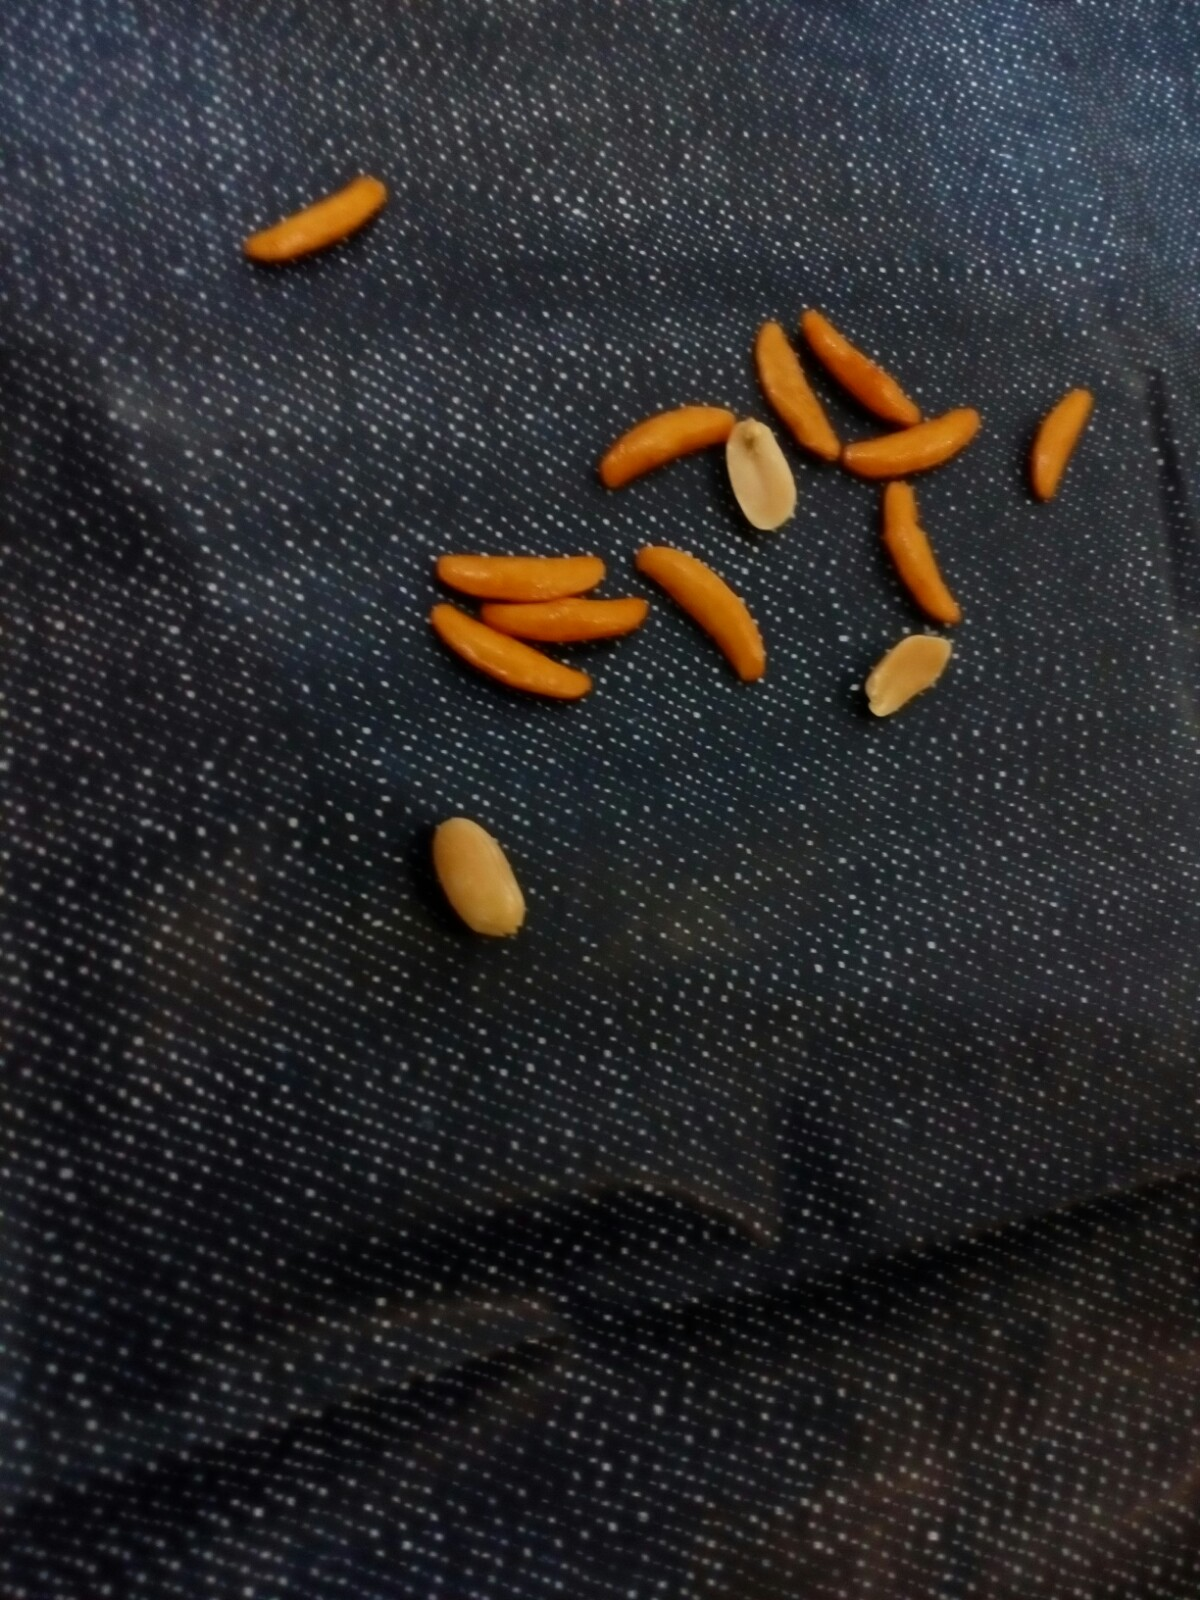peanut: (429, 804, 534, 944), (852, 625, 967, 724), (726, 402, 807, 540)
